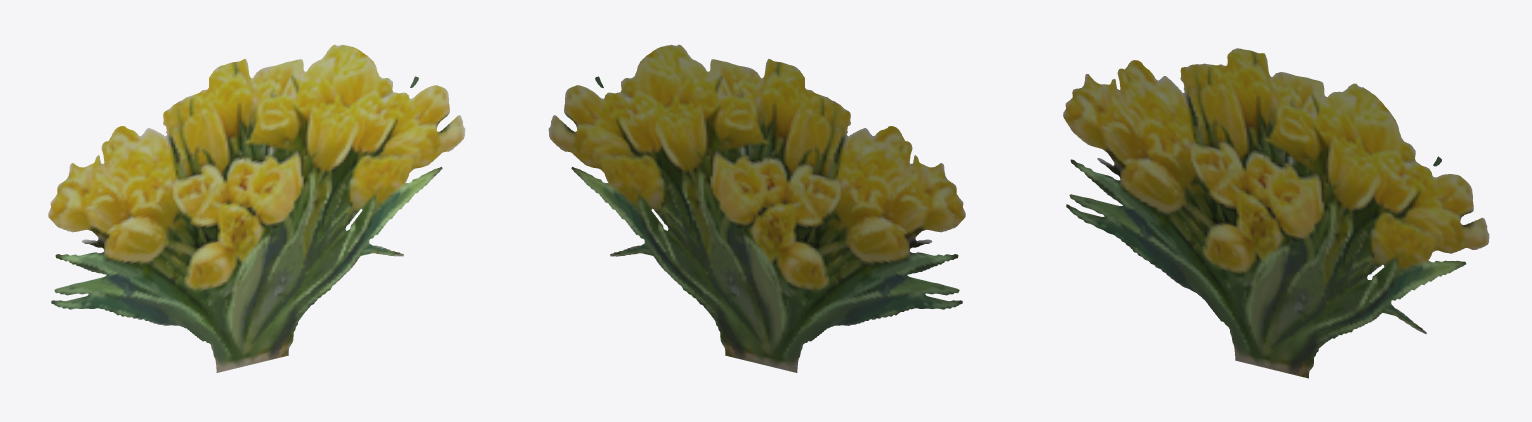
File: Jiubajie_hua04_fbx.FBX
3 renders of one model, left to right at view 1: azimuth 30°, elevation 25°; view 2: azimuth 150°, elevation 25°; view 3: azimuth 330°, elevation 25°, orthographic. The views are drawn at different scales.
Visible parts, largest first — view 1: Jiubajie_hua04_fbx; view 2: Jiubajie_hua04_fbx; view 3: Jiubajie_hua04_fbx.
Boxes of the visible parts, <box> form: Jiubajie_hua04_fbx: <box>48,44,465,372</box>; Jiubajie_hua04_fbx: <box>548,44,965,372</box>; Jiubajie_hua04_fbx: <box>1063,48,1489,378</box>.
Bounding box in the file's own units: 0.5808 × 0.3629 × 4.36e-05.
Materials: 1 (1 with a texture image).
